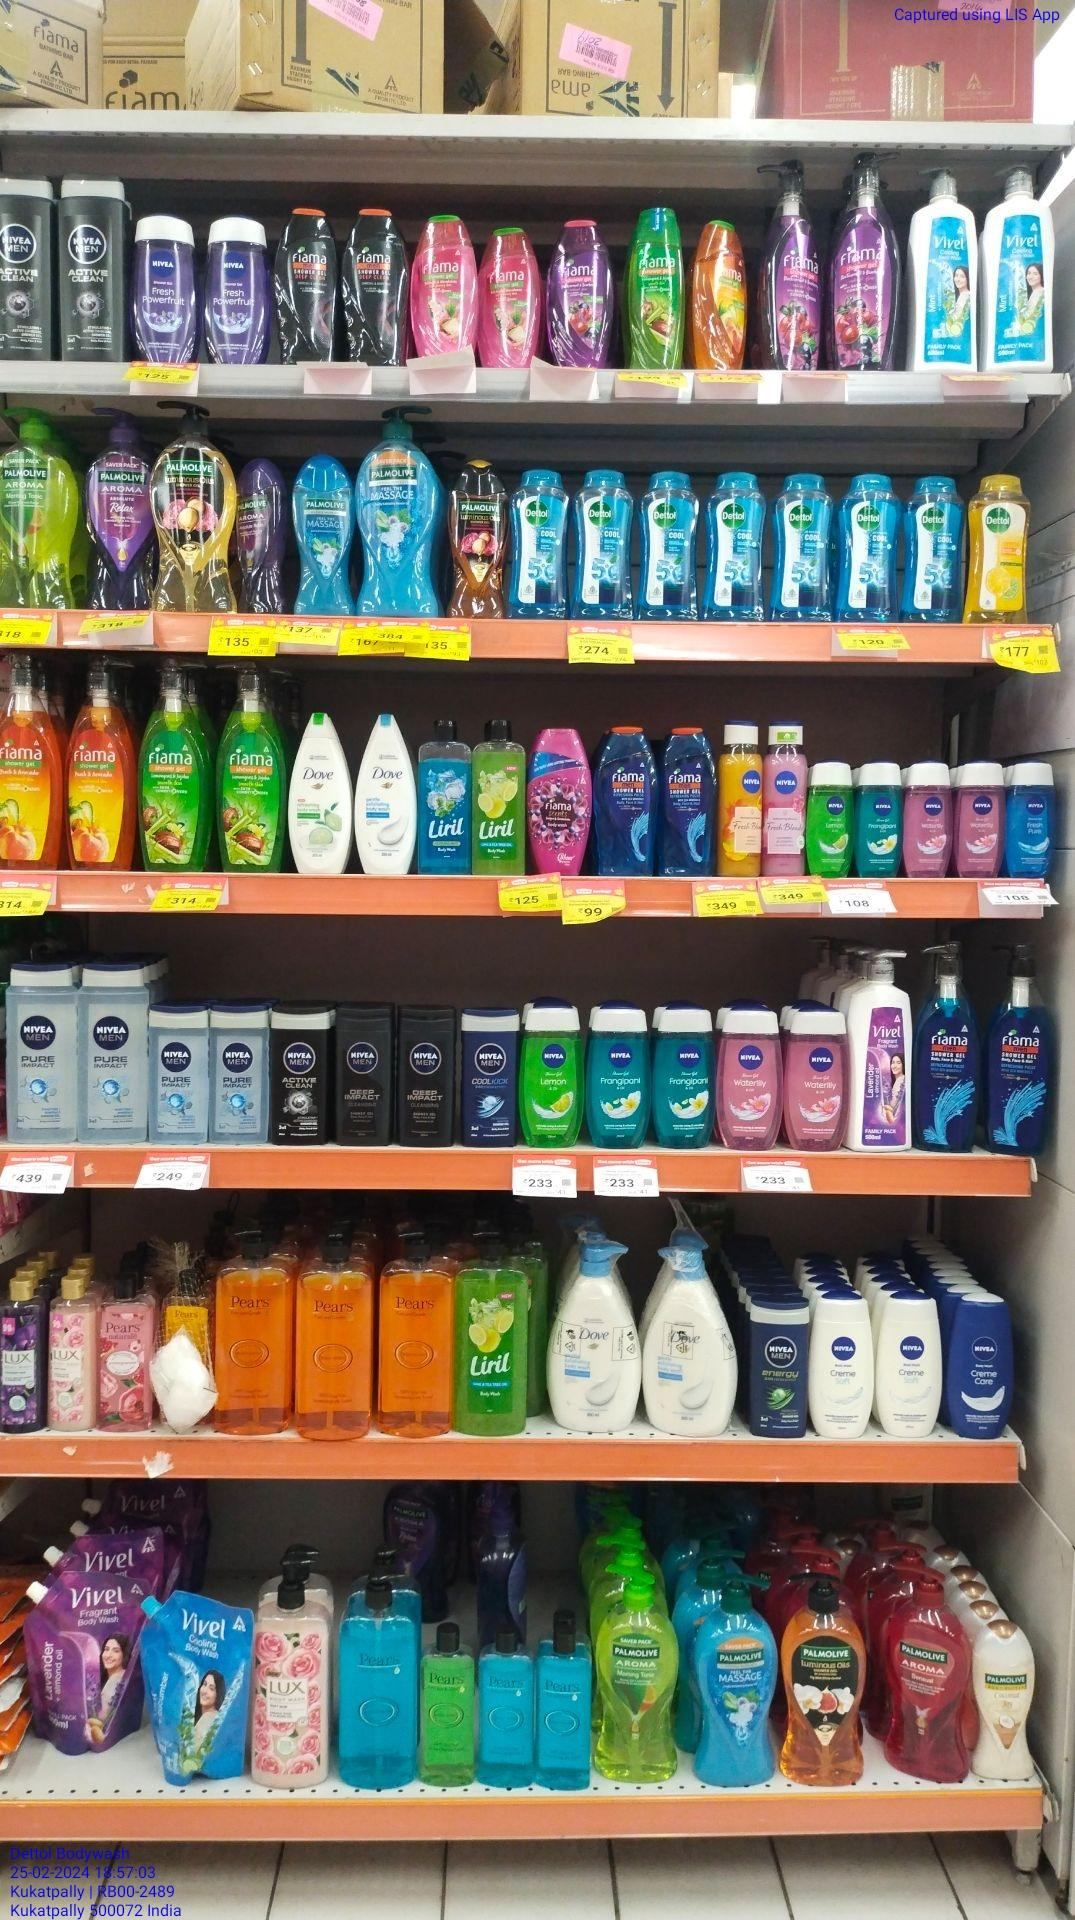Dettol_Bodywash_Cool: (905, 476, 964, 624), (644, 469, 699, 622), (575, 472, 633, 617), (777, 472, 832, 624), (842, 471, 897, 620), (513, 467, 567, 618), (712, 469, 764, 621)
Dettol_Bodywash_Refresh: (971, 472, 1026, 622)
Dove_Gentle_Exfoliating_Body_Wash_250ML: (355, 715, 418, 876)
Dove_Refreshing_Body_Wash_250ML: (292, 711, 350, 876)
Fiama_Shower_Gel_Peach_and_Avocado_250ML: (692, 219, 747, 371)
Liril_Cooling_Mint_Body_Wash_250ML: (419, 717, 471, 873)
Liril_Lime_and_Tea_Tree_Oil_Body_Wash_250ML: (452, 1229, 528, 1439), (474, 720, 528, 874)
Palmolive_Aroma_Moments_Feel_The_Massage_Shower_Gel_250ML: (293, 452, 352, 615)
Palmolive_Aroma_Relax_250ML: (236, 455, 281, 612)
Palmolive_Coconut_Joy_Exfoliating_Body_Wash_250ML: (973, 1623, 1035, 1780)
Palmolive_Luminous_Oils_Invigorating_Macadamia_Oil_With_Peony_250ML: (412, 216, 476, 369), (446, 460, 508, 618), (479, 228, 536, 365)
Pears_Pure_Glycerin_and_Lemon_Flower_Extracts_Body_Wash_250ML: (421, 1621, 470, 1783)
Pears_Pure_Glycerin_and_Mint_Extracts_Body_Wash_250ML: (475, 1635, 537, 1787), (538, 1629, 595, 1792)
